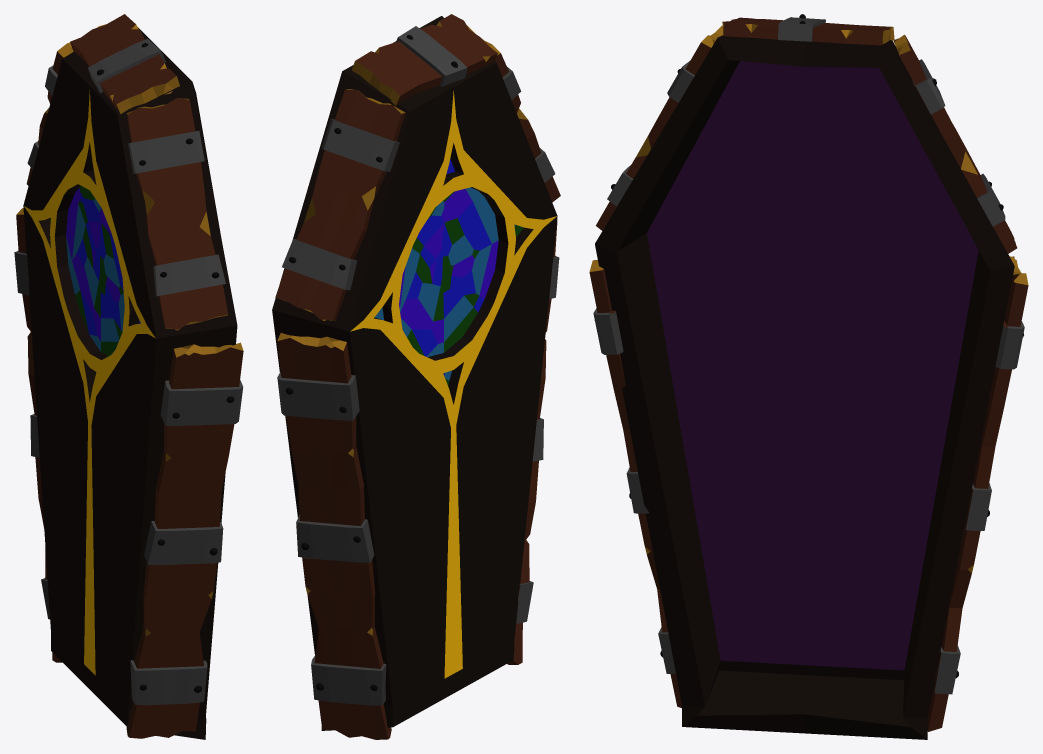
Rendered from Sarg_1_Deckel.obj.
3 renders of one model, left to right at view 1: azimuth 30°, elevation 25°; view 2: azimuth 150°, elevation 25°; view 3: azimuth 270°, elevation 25°, orthographic. The views are drawn at different scales.
Visible parts, largest first — view 1: Lid_1; view 2: Lid_1; view 3: Lid_1.
Part boxes in pixels (x1=…): Lid_1: x1=14, y1=14, x2=243, y2=739; Lid_1: x1=272, y1=14, x2=560, y2=739; Lid_1: x1=589, y1=14, x2=1028, y2=739.
Size of the model in its own units: 0.4382 by 2.51 by 1.42.
